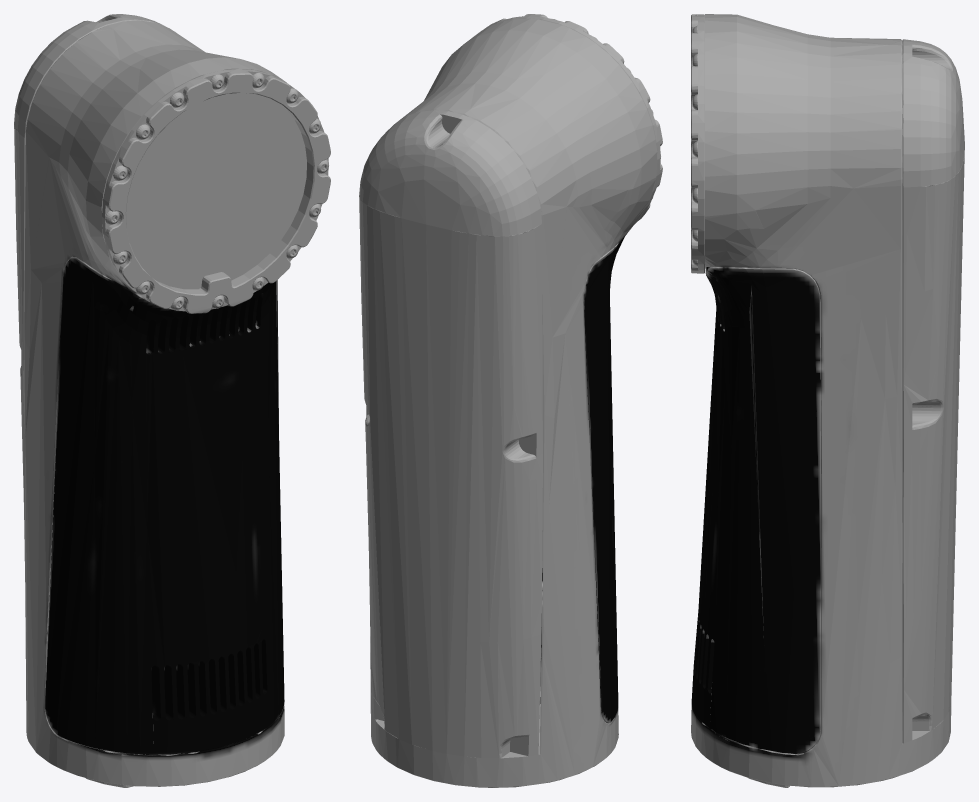
Rendered from arm-L3.obj.
The picture shows the model from 3 angles, left to right: view 1: azimuth 30°, elevation 25°; view 2: azimuth 150°, elevation 25°; view 3: azimuth 270°, elevation 25°; orthographic projection. The views are drawn at different scales.
Parts seen in each view (by area): view 1: arm-L3; view 2: arm-L3; view 3: arm-L3.
Boxes of the visible parts, box(x1,y1,x2,y2) form: arm-L3: box(14, 14, 330, 787); arm-L3: box(359, 14, 662, 787); arm-L3: box(691, 14, 964, 787).
Size of the model in its own units: 0.074 by 0.2259 by 0.078.
Materials: 1 (1 with a texture image).
